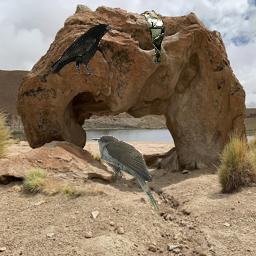Crow: (49, 22, 114, 78)
Cuckoo: (92, 135, 160, 212), (140, 11, 165, 64)
